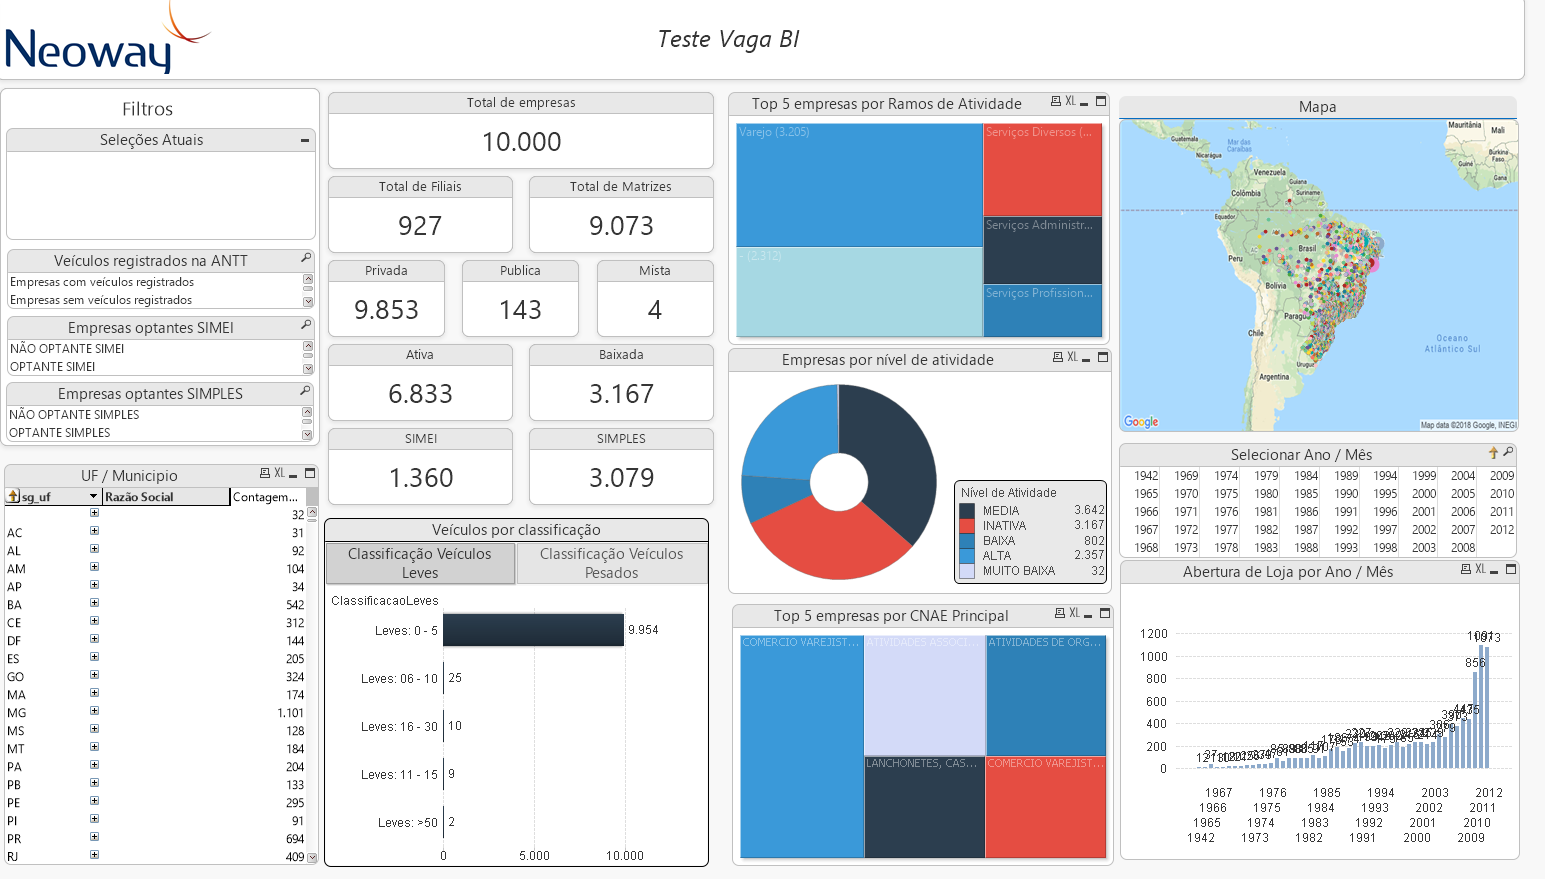

This screenshot's page, from the dashboard's own definition file:
{"tool":"powerbi","page":{"name":"Página Inicial","canvas":[1280,720],"ordinal":0},"visuals":[{"type":"basicShape","box":[0,6.8,1278.9,57],"z":0},{"type":"textbox","box":[545.3,12.5,189.4,61.6],"z":3},{"type":"basicShape","box":[157.4,54.8,71.9,127.8],"z":5},{"type":"basicShape","box":[152.6,221.3,71.9,127.8],"z":5},{"type":"basicShape","box":[152.6,336.2,71.9,127.8],"z":5},{"type":"basicShape","box":[152.6,451,71.9,127.8],"z":5},{"type":"basicShape","box":[152.6,565.8,71.9,127.8],"z":5},{"type":"textbox","box":[20.2,261.2,149.4,45.6],"z":19},{"type":"textbox","box":[20.2,377.2,149.4,45.6],"z":19},{"type":"textbox","box":[20.2,493.2,149.4,45.6],"z":19},{"type":"textbox","box":[20.2,609.2,149.4,45.6],"z":19},{"type":"image","box":[19.4,0,118.6,61.6],"z":1000},{"type":"card","fields":{"Values":["empresas.- TotEmpresas"]},"box":[204.2,66.2,189.4,100.4],"z":1001},{"type":"card","fields":{"Values":["empresas.- TotMatriz"]},"box":[179.1,231.6,189.4,100.4],"z":1001},{"type":"card","fields":{"Values":["empresasCalc.- TotFiliais"]},"box":[318.3,231.6,189.4,100.4],"z":1001},{"type":"card","fields":{"Values":["empresas.- TotPrivada"]},"box":[179.1,351,189.4,100.4],"z":1001},{"type":"card","fields":{"Values":["empresas.- TotPublica"]},"box":[318.3,351.8,189.4,100.4],"z":1001},{"type":"card","fields":{"Values":["empresas.- TotMista"]},"box":[443.8,351.8,189.4,100.4],"z":1001},{"type":"card","fields":{"Values":["empresas.- TotaAtiva"]},"box":[179.1,470.4,189.4,100.4],"z":1001},{"type":"card","fields":{"Values":["empresas.- TotaBaixada"]},"box":[318.3,470.4,189.4,100.4],"z":1001},{"type":"card","fields":{"Values":["empresasCalc.- TotSIMEI"]},"box":[179.1,589.8,189.4,100.4],"z":1001},{"type":"card","fields":{"Values":["empresasCalc.- TotSIMPLES"]},"box":[318.3,592.1,189.4,100.4],"z":1001},{"type":"pivotTable","title":"UF / Município - Drilldown","fields":{"Rows":["empresas.sg_uf Hierarchy.sg_uf","empresas.sg_uf Hierarchy.nm_municipio"],"Values":["Min(empresas.nm_razao_social)"]},"box":[601.2,71.9,664,640],"z":1002}]}

Visuals, with their boxes in screenshot pixels (x1, y1, x2, y2), scaled from the page's 1280x720 canvas onto the 1545x879 screenshot:
basicShape: bbox=[0, 8, 1544, 78]
textbox: bbox=[658, 15, 887, 90]
basicShape: bbox=[190, 67, 277, 223]
basicShape: bbox=[184, 270, 271, 426]
basicShape: bbox=[184, 410, 271, 566]
basicShape: bbox=[184, 551, 271, 707]
basicShape: bbox=[184, 691, 271, 847]
textbox: bbox=[24, 319, 205, 375]
textbox: bbox=[24, 460, 205, 516]
textbox: bbox=[24, 602, 205, 658]
textbox: bbox=[24, 744, 205, 799]
image: bbox=[23, 0, 167, 75]
card - empresas.- TotEmpresas: bbox=[246, 81, 475, 203]
card - empresas.- TotMatriz: bbox=[216, 283, 445, 405]
card - empresasCalc.- TotFiliais: bbox=[384, 283, 613, 405]
card - empresas.- TotPrivada: bbox=[216, 429, 445, 551]
card - empresas.- TotPublica: bbox=[384, 429, 613, 552]
card - empresas.- TotMista: bbox=[536, 429, 764, 552]
card - empresas.- TotaAtiva: bbox=[216, 574, 445, 697]
card - empresas.- TotaBaixada: bbox=[384, 574, 613, 697]
card - empresasCalc.- TotSIMEI: bbox=[216, 720, 445, 843]
card - empresasCalc.- TotSIMPLES: bbox=[384, 723, 613, 845]
"UF / Município - Drilldown" pivotTable: bbox=[726, 88, 1527, 869]
